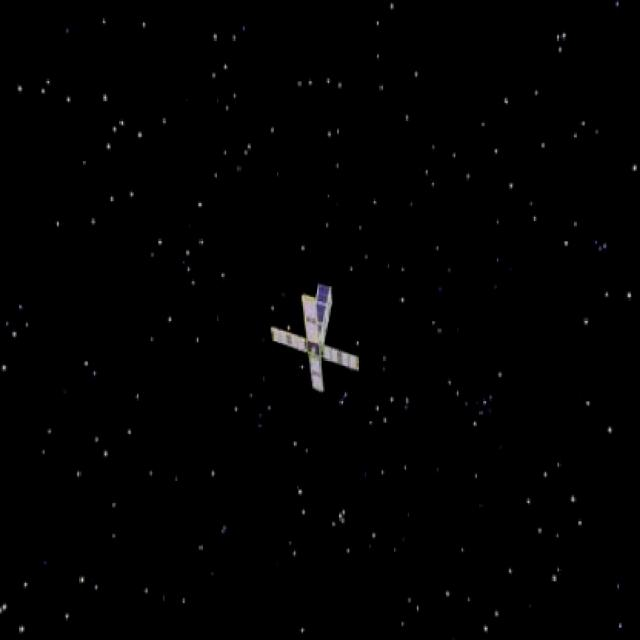satellite: (254, 277, 363, 400)
